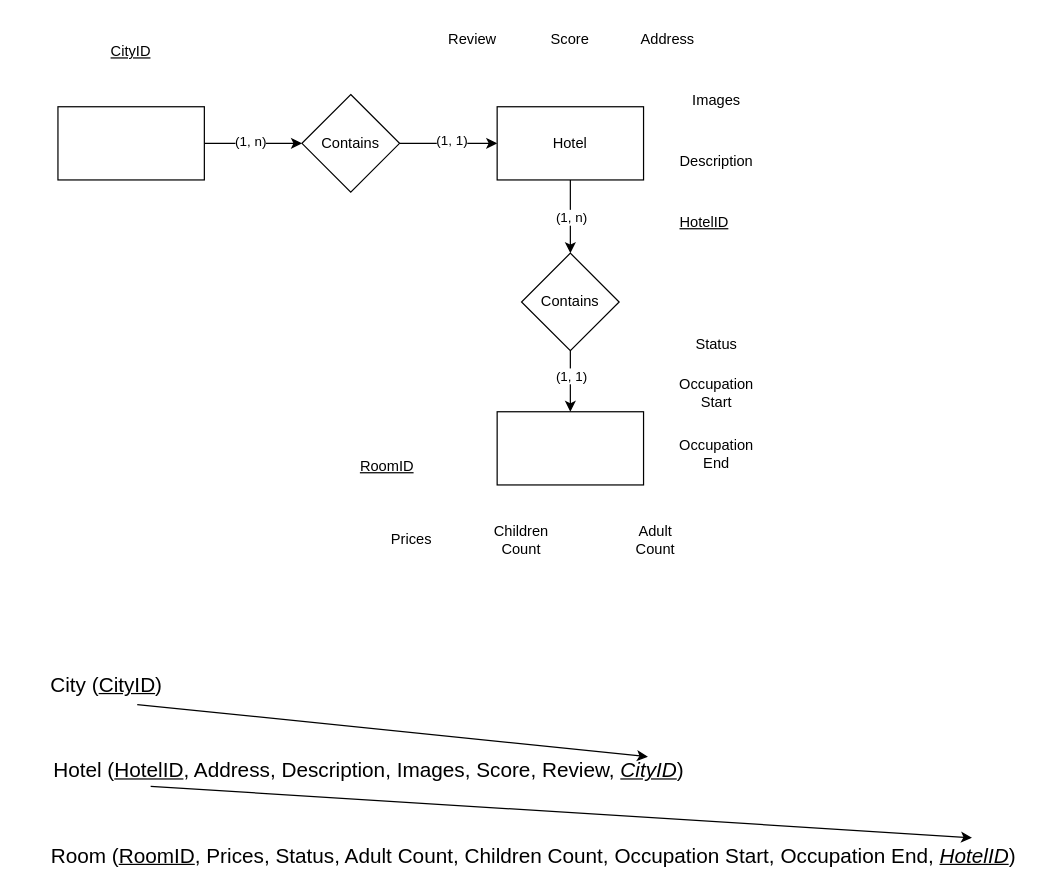
Some shapes in this 1042 by 895 pixel diagram are drawn without their labels. Here are the shapes that lost their labels. From the top down, the box of each, then its label:
(57, 106, 204, 180): City
(496, 411, 644, 485): Room
